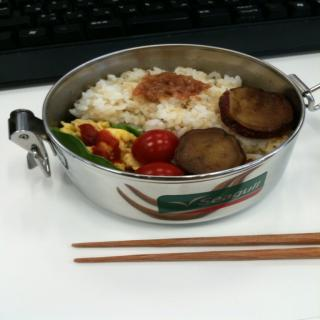tomato: (129, 130, 181, 161), (134, 160, 186, 178)
